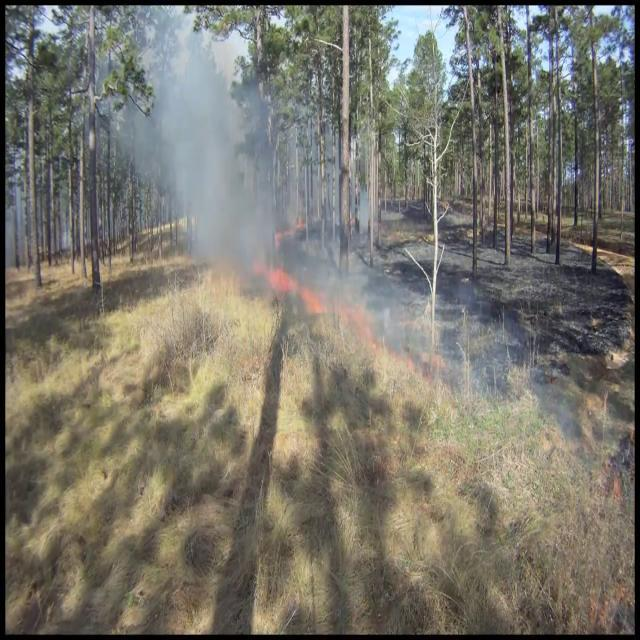Smoke: (128, 15, 296, 308)
